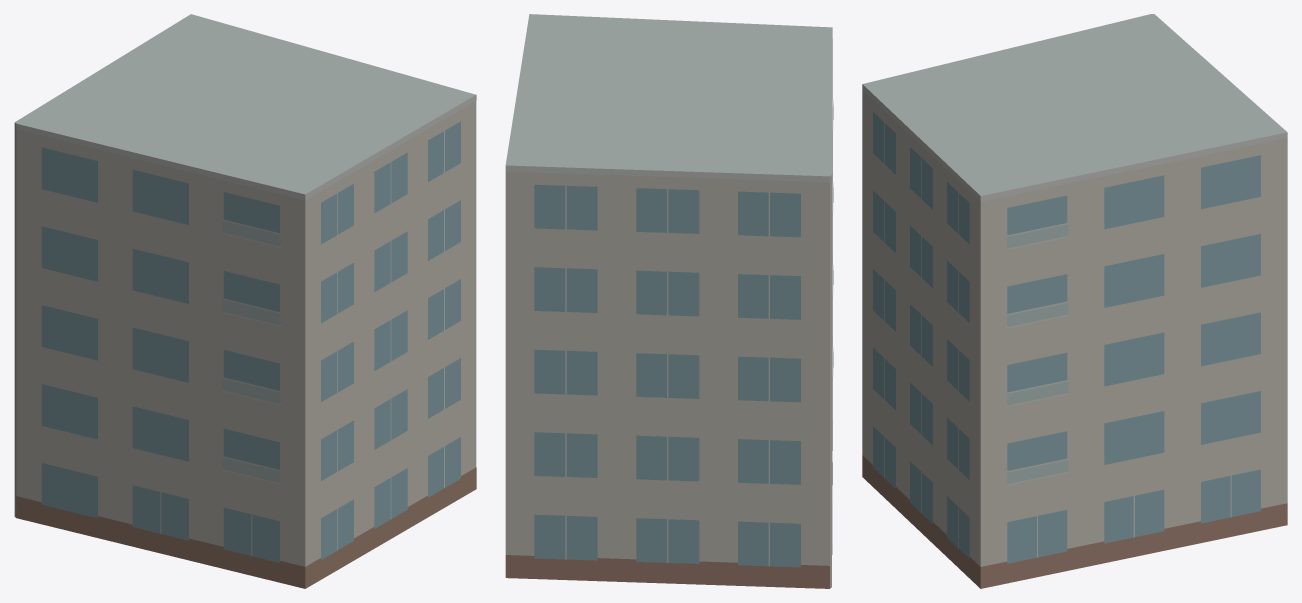
File: survey-upis-32839977.glb
3 renders of one model, left to right at view 1: azimuth 30°, elevation 25°; view 2: azimuth 150°, elevation 25°; view 3: azimuth 270°, elevation 25°, orthographic. The views are drawn at different scales.
Parts seen in each view (by area): view 1: survey-upis-32839977.tmp; view 2: survey-upis-32839977.tmp; view 3: survey-upis-32839977.tmp.
Boxes of the visible parts, x1,y1,x2,y2 form: survey-upis-32839977.tmp: [14, 14, 476, 588]; survey-upis-32839977.tmp: [505, 14, 833, 588]; survey-upis-32839977.tmp: [862, 14, 1287, 588].
Bounding box in the file's own units: 16.55 × 16.64 × 16.33.
